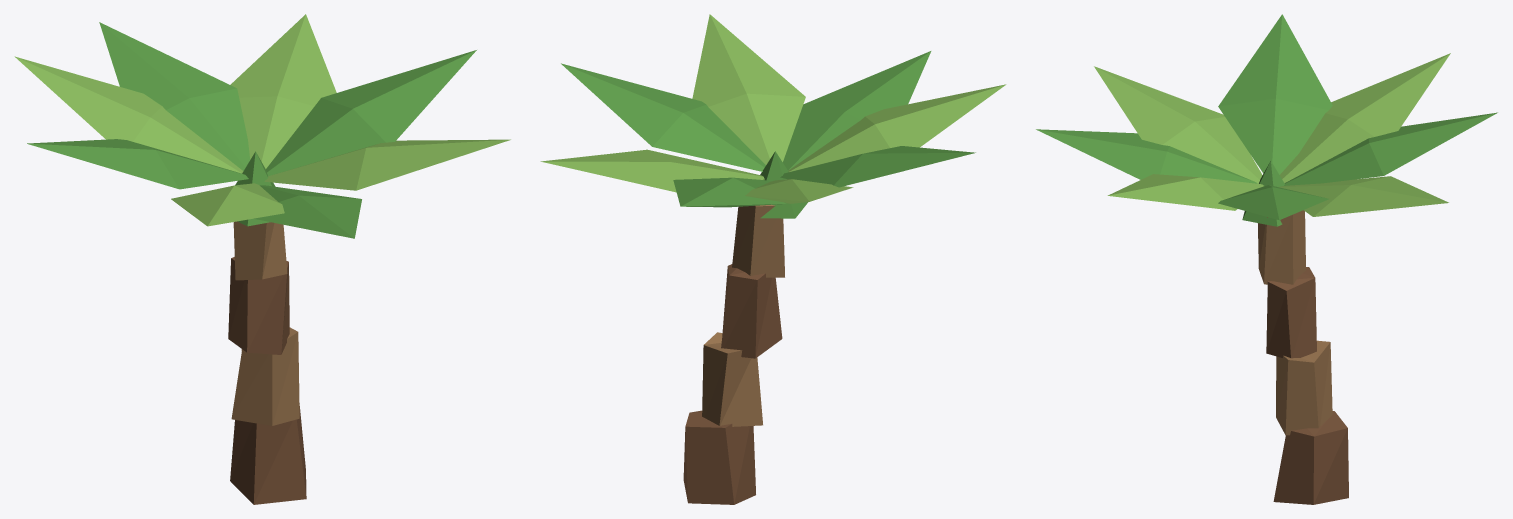
Rendered from world_tree_cycad_l.obj.
3 renders of one model, left to right at view 1: azimuth 30°, elevation 25°; view 2: azimuth 150°, elevation 25°; view 3: azimuth 270°, elevation 25°, orthographic. The views are drawn at different scales.
Visible parts, largest first — view 1: world_tree_cycad_l; view 2: world_tree_cycad_l; view 3: world_tree_cycad_l.
Part boxes in pixels (bbox=[...]): world_tree_cycad_l: bbox=[14, 14, 510, 504]; world_tree_cycad_l: bbox=[540, 14, 1006, 504]; world_tree_cycad_l: bbox=[1036, 14, 1497, 504].
Size of the model in its own units: 14.14 by 12.67 by 14.32.
